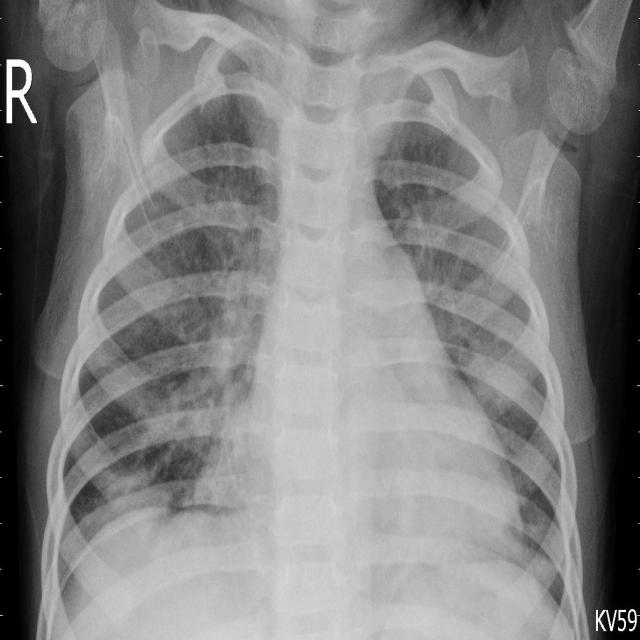low-pneumonia: (142, 218, 275, 456), (410, 200, 512, 397)
